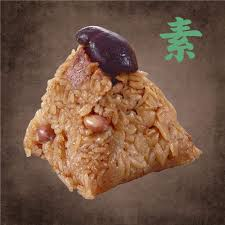zongzi: (25, 26, 200, 198)
